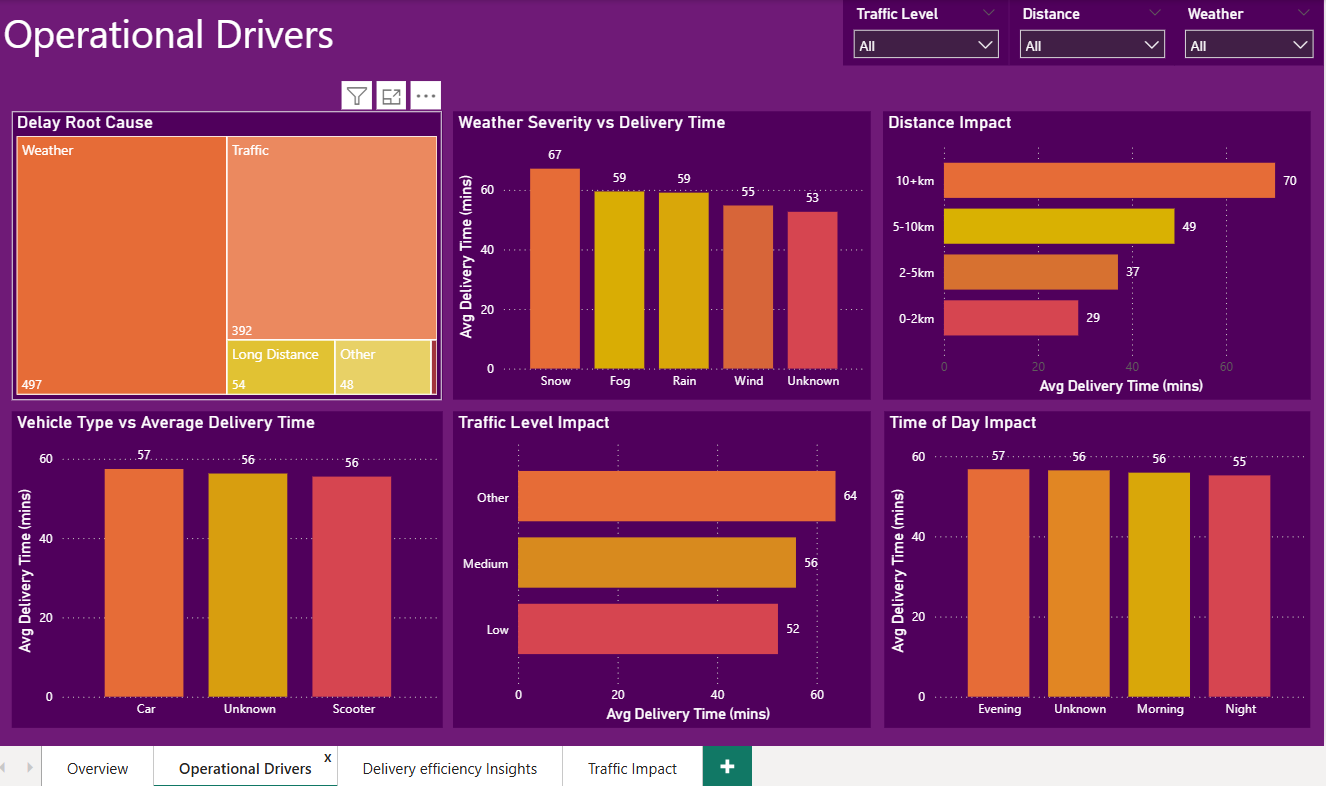

The dashboard page shown, as its layout file describes it:
{"tool":"powerbi","page":{"name":"Operational Drivers","canvas":[1280,720],"ordinal":1},"visuals":[{"type":"treemap","title":"Delay Root Cause","fields":{"Group":["zepto_delivery.Delay Root Cause"],"Values":["zepto_delivery.Total Deliveries"]},"box":[12.9,107.1,415.7,278.6],"z":0},{"type":"clusteredColumnChart","title":"Weather Severity vs Delivery Time","fields":{"Y":["zepto_delivery.Avg Delivery Time (mins)"],"Category":["zepto_delivery.weather severity"]},"box":[438.6,107.1,402.9,278.6],"z":1000},{"type":"barChart","title":"Distance Impact","fields":{"Category":["zepto_delivery.Distance bucket"],"Y":["zepto_delivery.Avg Delivery Time (mins)"]},"box":[854.3,107.1,412.9,278.6],"z":2000},{"type":"barChart","title":"Traffic Level Impact","fields":{"Category":["zepto_delivery.Traffic Bucket"],"Y":["zepto_delivery.Avg Delivery Time (mins)"]},"box":[438.6,397.1,402.9,305.7],"z":3000},{"type":"clusteredColumnChart","title":"Time of Day Impact","fields":{"Y":["zepto_delivery.Avg Delivery Time (mins)"],"Category":["zepto_delivery.Time Bucket"]},"box":[855.7,397.1,411.4,305.7],"z":4000},{"type":"clusteredColumnChart","title":"Vehicle Type vs Average Delivery Time","fields":{"Y":["zepto_delivery.Avg Delivery Time (mins)"],"Category":["zepto_delivery.Vehicle Type"]},"box":[12.9,397.1,415.7,305.7],"z":5000},{"type":"slicer","title":"Experience vs Avg Delivery Time","fields":{"Values":["zepto_delivery.Traffic Bucket"]},"box":[815.7,0,160,62.9],"z":6000},{"type":"slicer","title":"Experience vs Avg Delivery Time","fields":{"Values":["zepto_delivery.weather severity"]},"box":[1135.7,0,144.3,62.9],"z":7000},{"type":"slicer","title":"Experience vs Avg Delivery Time","fields":{"Values":["zepto_delivery.Distance bucket"]},"box":[975.7,0,160,62.9],"z":8000},{"type":"textbox","box":[0,1.4,348.6,61.4],"z":9000}]}

Visuals, with their boxes on the page's 1280x720 design canvas (x1, y1, x2, y2). These are canvas units, not pixel positions in the 1326x786 screenshot, which may show the page scaled, cropped or inside an application window:
"Delay Root Cause" treemap: box(13, 107, 429, 386)
"Weather Severity vs Delivery Time" clusteredColumnChart: box(439, 107, 842, 386)
"Distance Impact" barChart: box(854, 107, 1267, 386)
"Traffic Level Impact" barChart: box(439, 397, 842, 703)
"Time of Day Impact" clusteredColumnChart: box(856, 397, 1267, 703)
"Vehicle Type vs Average Delivery Time" clusteredColumnChart: box(13, 397, 429, 703)
"Experience vs Avg Delivery Time" slicer: box(816, 0, 976, 63)
"Experience vs Avg Delivery Time" slicer: box(1136, 0, 1280, 63)
"Experience vs Avg Delivery Time" slicer: box(976, 0, 1136, 63)
textbox: box(0, 1, 349, 63)
